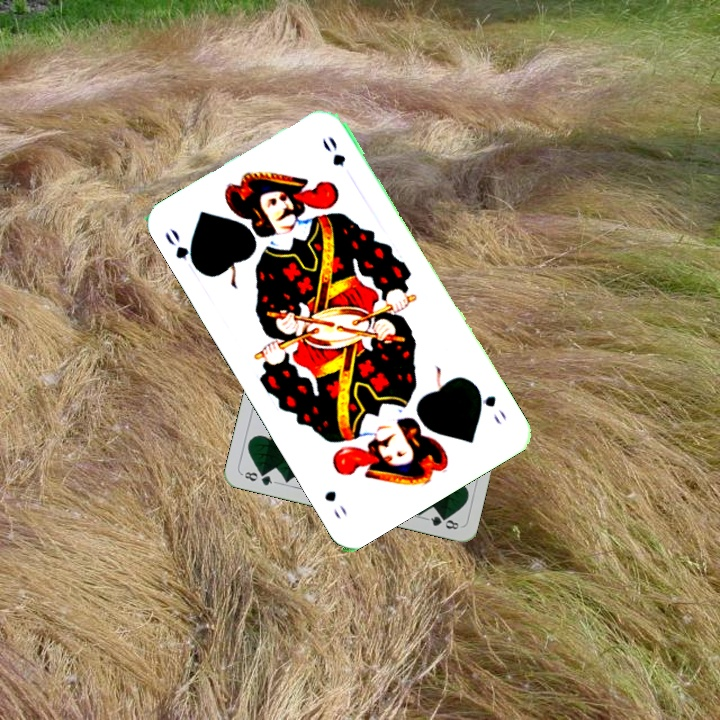G8: (238, 468, 278, 488)
GO: (160, 224, 203, 275), (470, 380, 509, 427)
